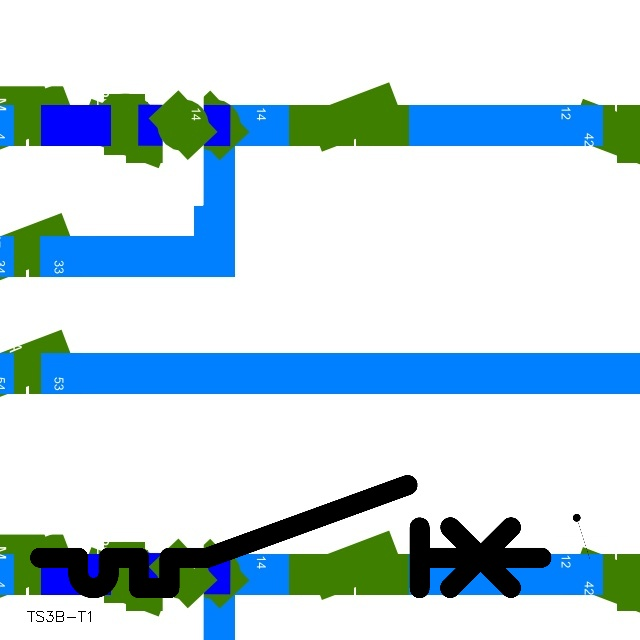interruptor_termomagnetico: (27, 472, 555, 601)
